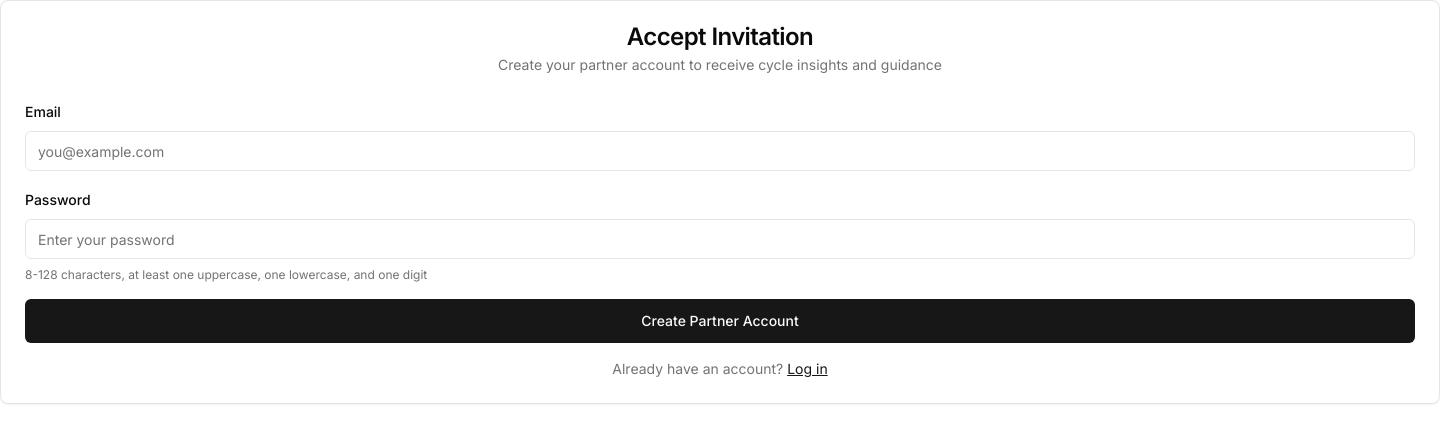
Scenario: AcceptInvitePage › shows expired invite state when API returns INVITE_EXPIRED
The image size is (1440, 421).
Type "partner@example.com" into the field labelled "Email".
click(720, 151); type("partner@example.com")  # box [25,131,1415,171]
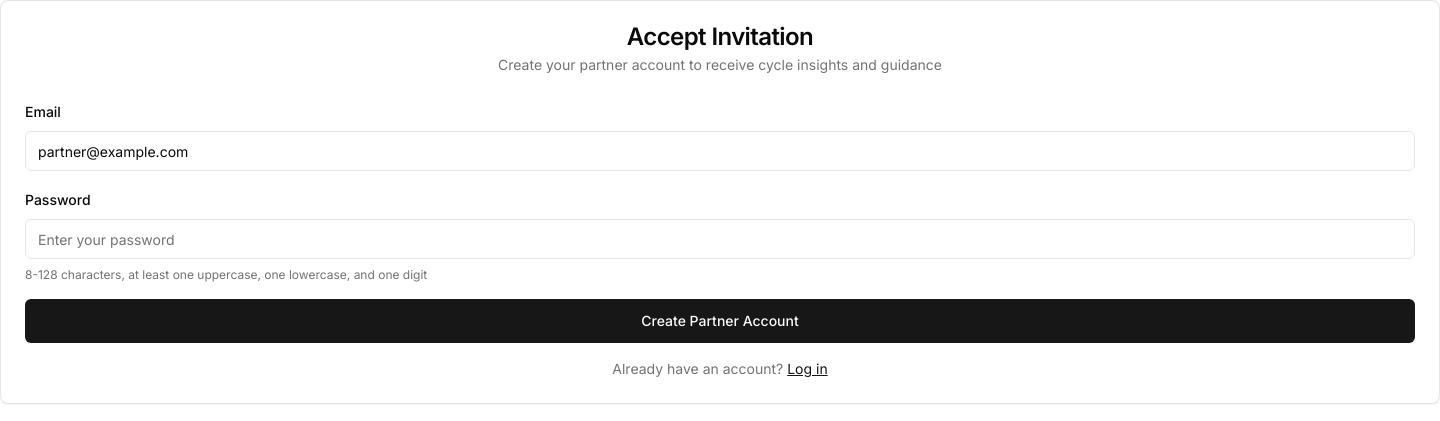
Type "ValidPass1" into the password field labelled "Password".
click(720, 239); type("ValidPass1")  # box [25,219,1415,259]
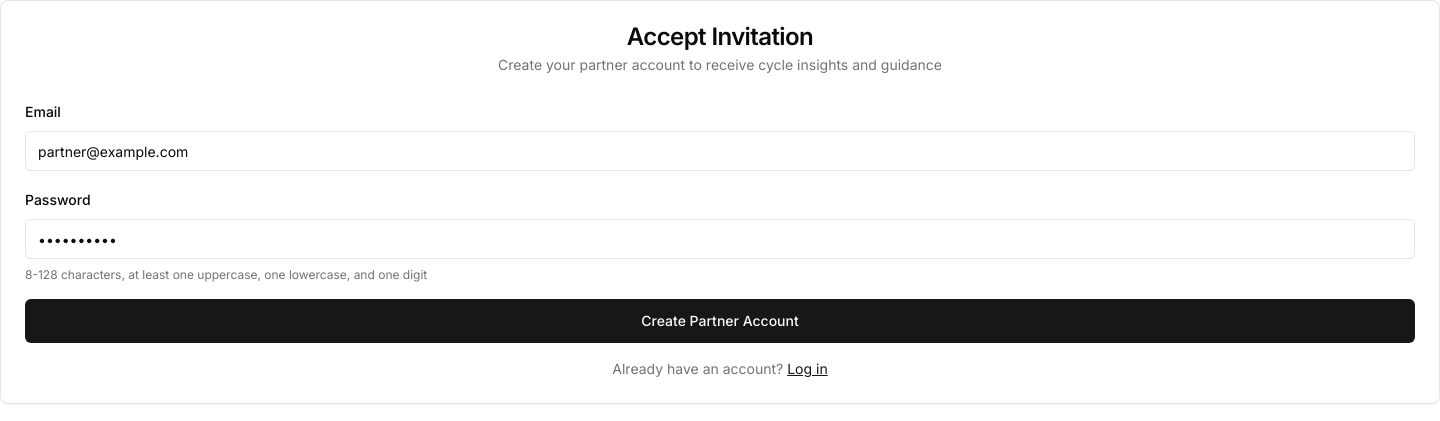
Click the button "Create Partner Account".
click(720, 321)  # box [25,299,1415,343]
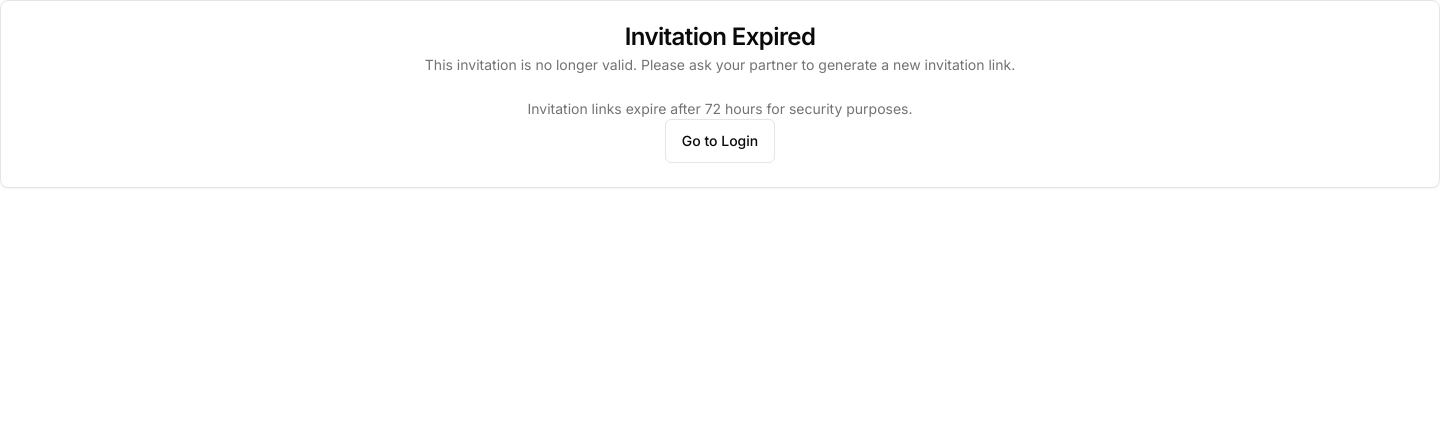
Check: the heading "Invitation Expired" is shown, box [625,22,815,51]
Check: the text "ask your partner to generate a new invitation" is shown, box [425,56,1015,73]
